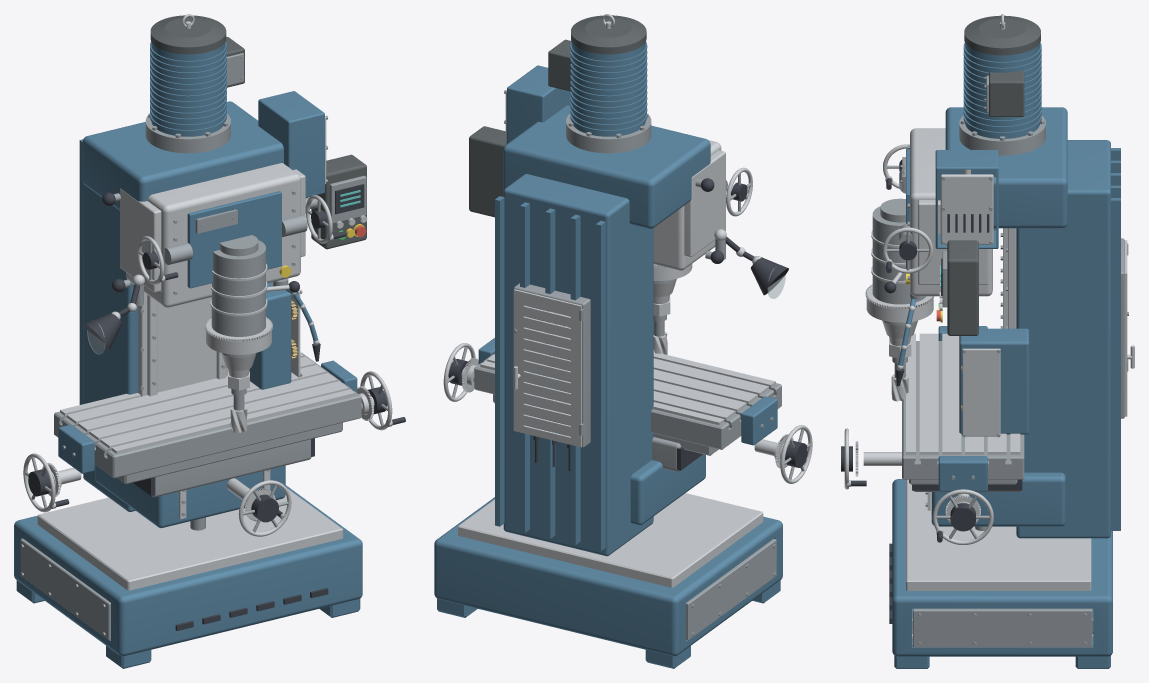
Rendered from fresadora-03.glb.
The picture shows the model from 3 angles, left to right: view 1: azimuth 30°, elevation 25°; view 2: azimuth 150°, elevation 25°; view 3: azimuth 270°, elevation 25°; orthographic projection.
Visible parts, largest first — view 1: base__1, base__2, mesa__3, cabecote__3, coluna__1, cabecote__1, mesa__2, coluna__2, cabecote__2, tampa_correias__1, joelho__1, fuso__1 (+24 smaller); view 2: coluna__1, base__1, cabecote__3, base__2, porta_armario__1, mesa__3, tampas_base__1, motor__1, coluna__49, coluna__53, mesa__2, joelho__1 (+17 smaller); view 3: coluna__1, base__2, base__1, cabecote__3, tampas_base__10, mesa__3, joelho__1, caixa_avanco__1, mesa__2, tampa_correias__2, tampa_caixa_avanco__1, coluna__53 (+25 smaller).
Part boxes in pixels (bbox=[...]): base__1: bbox=[14, 485, 362, 656]; base__2: bbox=[37, 488, 343, 590]; mesa__3: bbox=[60, 352, 355, 453]; cabecote__3: bbox=[82, 101, 283, 210]; coluna__1: bbox=[83, 183, 138, 511]; cabecote__1: bbox=[126, 163, 300, 307]; mesa__2: bbox=[54, 352, 361, 478]; coluna__2: bbox=[138, 292, 228, 396]; cabecote__2: bbox=[187, 191, 281, 288]; tampa_correias__1: bbox=[258, 91, 324, 197]; joelho__1: bbox=[95, 465, 285, 528]; fuso__1: bbox=[211, 240, 265, 336]; coluna__1: bbox=[503, 174, 653, 556]; base__1: bbox=[434, 497, 782, 656]; cabecote__3: bbox=[503, 105, 710, 228]; base__2: bbox=[458, 493, 763, 587]; porta_armario__1: bbox=[513, 289, 581, 447]; mesa__3: bbox=[480, 352, 775, 425]; tampas_base__1: bbox=[686, 539, 776, 640]; motor__1: bbox=[571, 42, 645, 136]; coluna__49: bbox=[596, 221, 605, 551]; coluna__53: bbox=[495, 196, 504, 526]; mesa__2: bbox=[474, 353, 781, 449]; joelho__1: bbox=[630, 454, 705, 525]; coluna__1: bbox=[1016, 140, 1110, 538]; base__2: bbox=[906, 479, 1091, 590]; base__1: bbox=[892, 479, 1112, 656]; cabecote__3: bbox=[945, 107, 1067, 228]; tampas_base__10: bbox=[913, 608, 1092, 647]; mesa__3: bbox=[906, 333, 1020, 454]; joelho__1: bbox=[931, 472, 1065, 526]; caixa_avanco__1: bbox=[959, 328, 1029, 434]; mesa__2: bbox=[902, 341, 1024, 479]; tampa_correias__2: bbox=[940, 174, 993, 244]; tampa_caixa_avanco__1: bbox=[962, 348, 1000, 436]; coluna__53: bbox=[1111, 198, 1120, 530].
Size of the model in its own units: 2.13 by 3.34 by 1.49.
